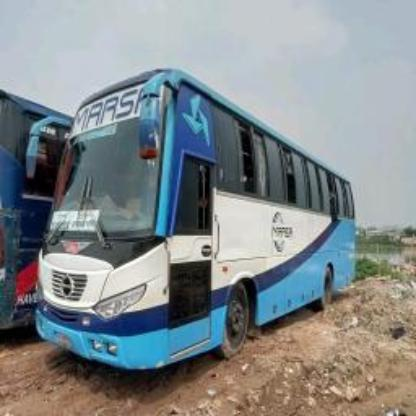bus: (17, 72, 363, 366)
